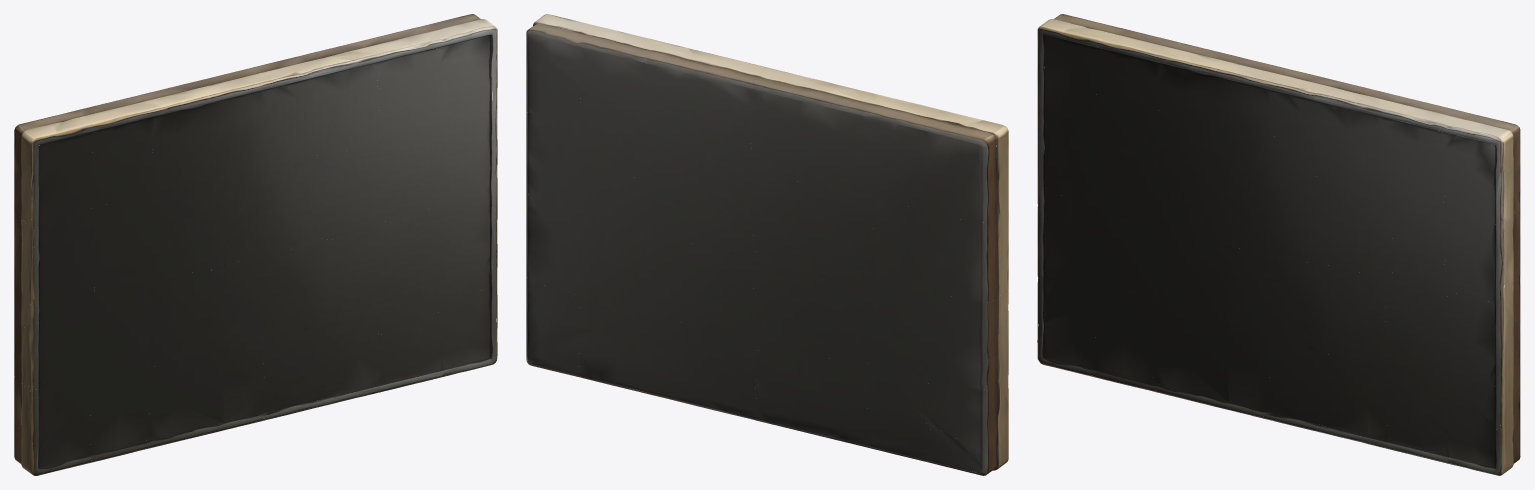
File: frameless-display.glb
The picture shows the model from 3 angles, left to right: view 1: azimuth 30°, elevation 25°; view 2: azimuth 150°, elevation 25°; view 3: azimuth 330°, elevation 25°; orthographic projection.
Parts seen in each view (by area): view 1: tripo_node_a23a1ab7-8ed2-4846-9e35-493bcb67f321; view 2: tripo_node_a23a1ab7-8ed2-4846-9e35-493bcb67f321; view 3: tripo_node_a23a1ab7-8ed2-4846-9e35-493bcb67f321.
Part boxes in pixels (left/top/right/bottom): tripo_node_a23a1ab7-8ed2-4846-9e35-493bcb67f321: left=14, top=14, right=497, bottom=475; tripo_node_a23a1ab7-8ed2-4846-9e35-493bcb67f321: left=526, top=14, right=1008, bottom=475; tripo_node_a23a1ab7-8ed2-4846-9e35-493bcb67f321: left=1037, top=14, right=1520, bottom=475.
Bounding box in the file's own units: 2.2 × 1.53 × 0.1904.
1 material, 1 textured.
